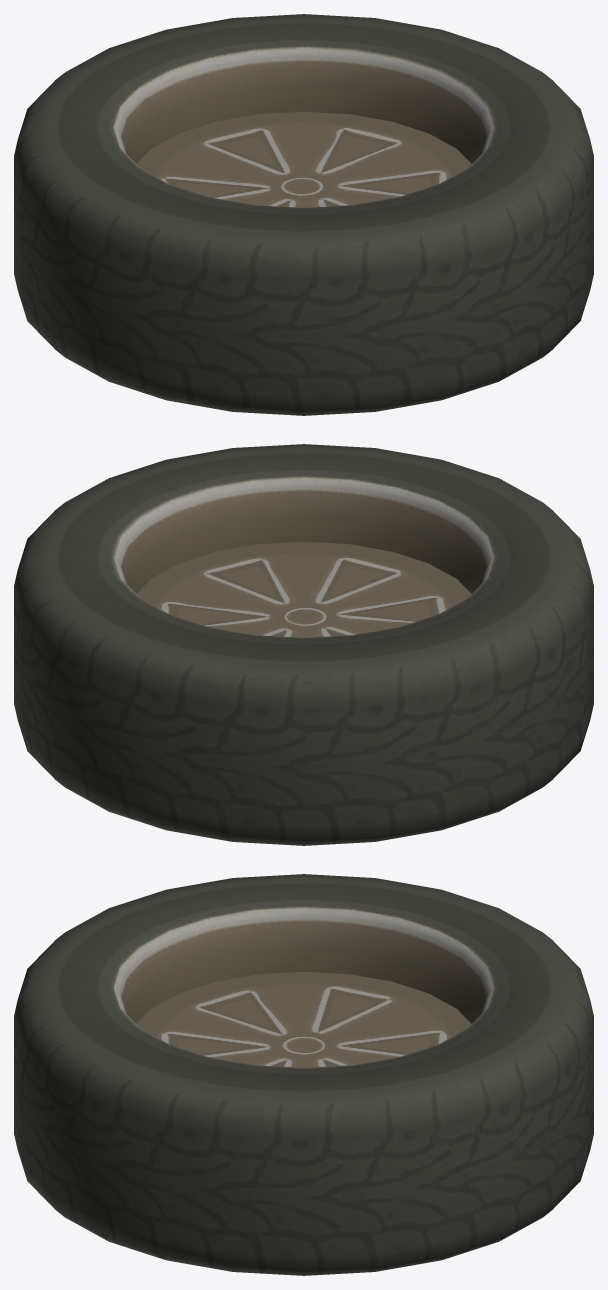
The model's file is SM_wheel.glb.
3 renders of one model, top to bottom at view 1: azimuth 30°, elevation 25°; view 2: azimuth 150°, elevation 25°; view 3: azimuth 270°, elevation 25°, orthographic.
Parts seen in each view (by area): view 1: SM_wheel; view 2: SM_wheel; view 3: SM_wheel.
Part boxes in pixels (x1,y1,x2,y2): SM_wheel: (14, 14, 593, 415); SM_wheel: (14, 444, 593, 845); SM_wheel: (14, 874, 593, 1275).
Size of the model in its own units: 1.2 by 0.4 by 1.2.
1 material, 1 textured.
